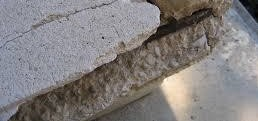Crack: (1, 1, 118, 49)
Exposed reinforcement: (142, 6, 214, 47)
Spalling: (7, 1, 233, 121)
